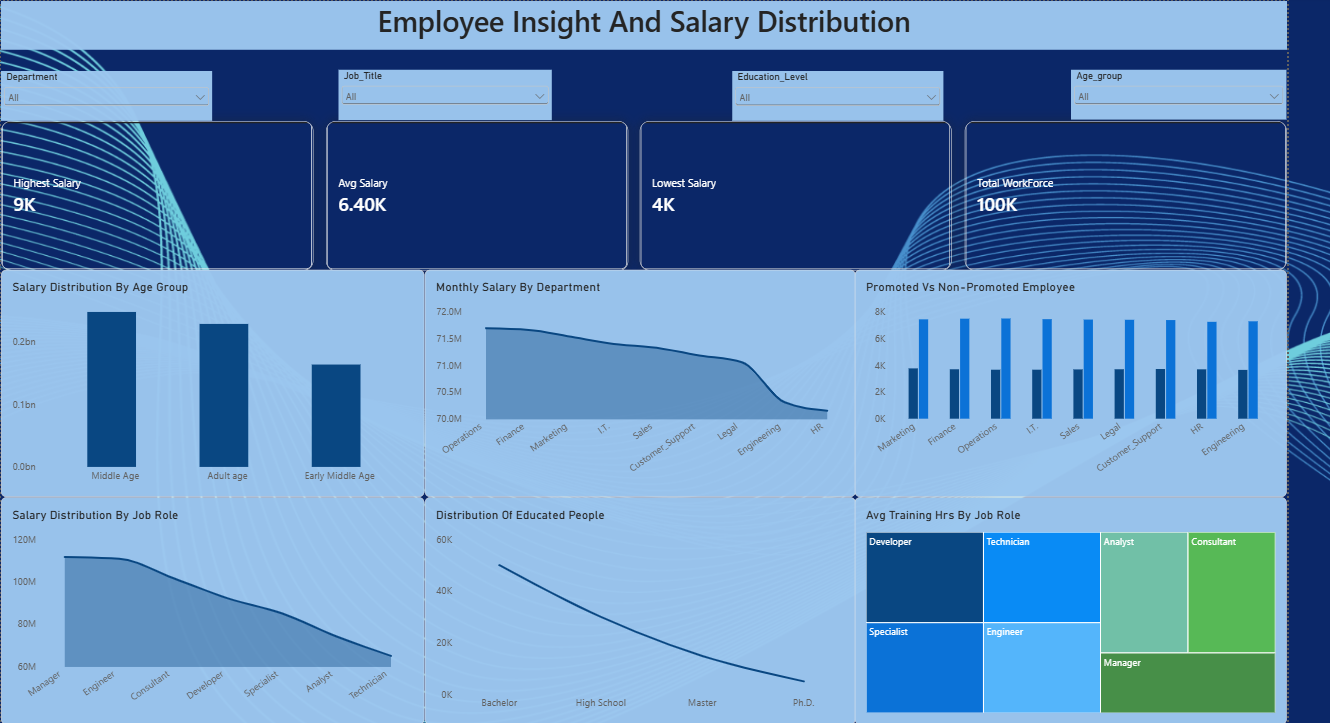

What the dashboard file says about the page in this screenshot:
{"tool":"powerbi","page":{"name":"Employee Insight And Salary Distribution","canvas":[1920,1080],"ordinal":2},"visuals":[{"type":"textbox","box":[0,0,1920.1,72.8],"z":0},{"type":"cardVisual","fields":{"Data":["Measure Table.Highest Salary"]},"box":[0,178.3,466.7,223.2],"z":1000},{"type":"cardVisual","fields":{"Data":["Measure Table.Lowest Salary"]},"box":[953.6,178.3,465.2,223.2],"z":2000},{"type":"cardVisual","fields":{"Data":["Measure Table.Avg Salary"]},"box":[485.5,178.3,451.6,223.9],"z":3000},{"type":"cardVisual","fields":{"Data":["Measure Table.Total WorkForce"]},"box":[1439.1,178.3,481.2,223.2],"z":4000},{"type":"stackedAreaChart","title":"Monthly Salary By Department","fields":{"Category":["Clean data.Department"],"Y":["Sum(Clean data.Monthly_Salary)"]},"box":[631.9,401.4,643.5,339.1],"z":5000},{"type":"clusteredColumnChart","title":"Salary Distribution By Age Group","fields":{"Category":["Clean data.Age_group"],"Y":["Sum(Clean data.Monthly_Salary)"]},"box":[0,401.4,631.9,339.1],"z":6000},{"type":"lineChart","title":"Distribution Of Educated People","fields":{"Category":["Clean data.Education_Level"],"Y":["CountNonNull(Clean data.Employee_ID)"]},"box":[631.9,740.6,643.5,339.1],"z":7000},{"type":"areaChart","title":"Salary Distribution By Job Role","fields":{"Category":["Clean data.Job_Title"],"Y":["Sum(Clean data.Monthly_Salary)"]},"box":[0,740.6,631.9,339.1],"z":8000},{"type":"clusteredColumnChart","title":"Promoted Vs Non-Promoted Employee","fields":{"Category":["Clean data.Department"],"Y":["CountNonNull(Clean data.Employee_ID)"],"Series":["Clean data.Promotion Category"]},"box":[1275.4,401.4,644.9,339.1],"z":9000},{"type":"treemap","title":"Avg Training Hrs By Job Role","fields":{"Group":["Clean data.Job_Title"],"Values":["Avg(Clean data.Training_Hours)"]},"box":[1275.4,740.6,644.9,339.1],"z":10000},{"type":"slicer","fields":{"Values":["Clean data.Job_Title"]},"box":[504.1,102.1,318.6,75.3],"z":11000},{"type":"slicer","fields":{"Values":["Clean data.Department"]},"box":[0,104.1,315.5,74.2],"z":12000},{"type":"slicer","fields":{"Values":["Clean data.Age_group"]},"box":[1597.9,103.1,321.6,74.2],"z":13000},{"type":"slicer","fields":{"Values":["Clean data.Education_Level"]},"box":[1090.7,104.1,315.5,74.2],"z":14000}]}

Visuals, with their boxes on the page's 1920x1080 design canvas (x1, y1, x2, y2). These are canvas units, not pixel positions in the 1330x723 screenshot, which may show the page scaled, cropped or inside an application window:
textbox: l=0, t=0, r=1920, b=73
cardVisual - Measure Table.Highest Salary: l=0, t=178, r=467, b=402
cardVisual - Measure Table.Lowest Salary: l=954, t=178, r=1419, b=402
cardVisual - Measure Table.Avg Salary: l=486, t=178, r=937, b=402
cardVisual - Measure Table.Total WorkForce: l=1439, t=178, r=1920, b=402
"Monthly Salary By Department" stackedAreaChart: l=632, t=401, r=1275, b=740
"Salary Distribution By Age Group" clusteredColumnChart: l=0, t=401, r=632, b=740
"Distribution Of Educated People" lineChart: l=632, t=741, r=1275, b=1080
"Salary Distribution By Job Role" areaChart: l=0, t=741, r=632, b=1080
"Promoted Vs Non-Promoted Employee" clusteredColumnChart: l=1275, t=401, r=1920, b=740
"Avg Training Hrs By Job Role" treemap: l=1275, t=741, r=1920, b=1080
slicer - Clean data.Job_Title: l=504, t=102, r=823, b=177
slicer - Clean data.Department: l=0, t=104, r=316, b=178
slicer - Clean data.Age_group: l=1598, t=103, r=1920, b=177
slicer - Clean data.Education_Level: l=1091, t=104, r=1406, b=178
